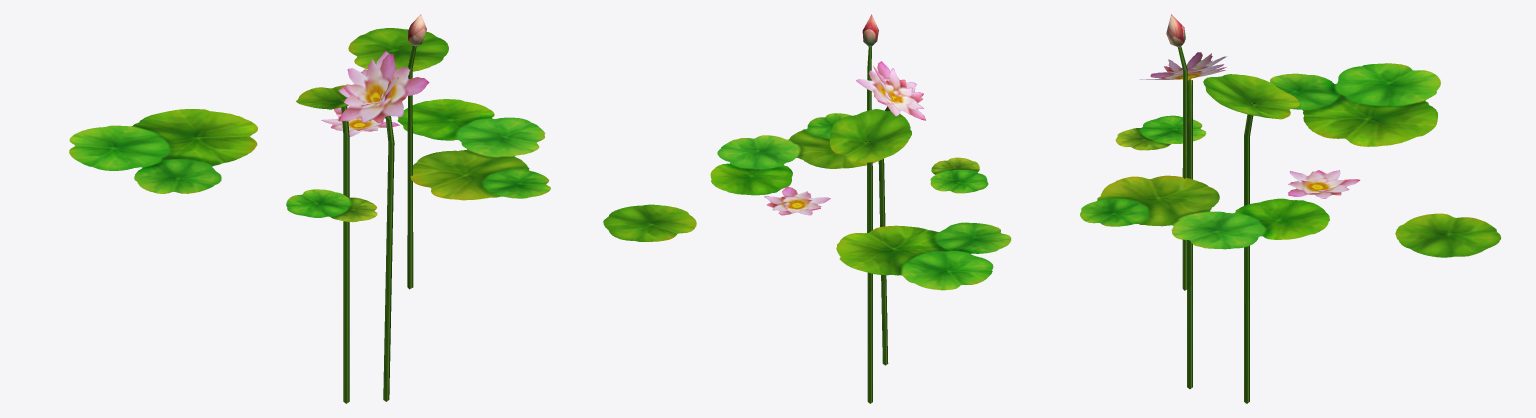
File: szc_flower_heye02a.FBX
3 renders of one model, left to right at view 1: azimuth 30°, elevation 25°; view 2: azimuth 150°, elevation 25°; view 3: azimuth 270°, elevation 25°, orthographic. The views are drawn at different scales.
Parts seen in each view (by area): view 1: szc_flower_heye2; view 2: szc_flower_heye2; view 3: szc_flower_heye2.
Part boxes in pixels (box(x1,y1,x2,y2)): szc_flower_heye2: box(69, 14, 550, 403); szc_flower_heye2: box(603, 14, 1011, 403); szc_flower_heye2: box(1080, 14, 1501, 403).
Size of the model in its own units: 202 by 173 by 181.
